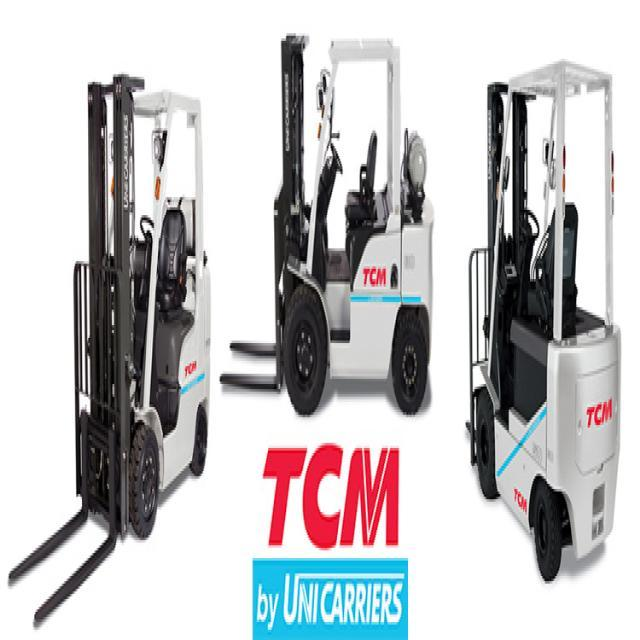forklift: (462, 41, 618, 594), (68, 64, 212, 562), (262, 14, 408, 441)
